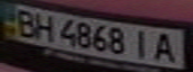4: (54, 17, 78, 47)
6: (90, 23, 112, 53)
8: (106, 25, 130, 56), (72, 20, 93, 51)
A: (148, 30, 181, 64)
B: (9, 7, 42, 38)
H: (30, 11, 57, 42)
I: (127, 28, 157, 60)
